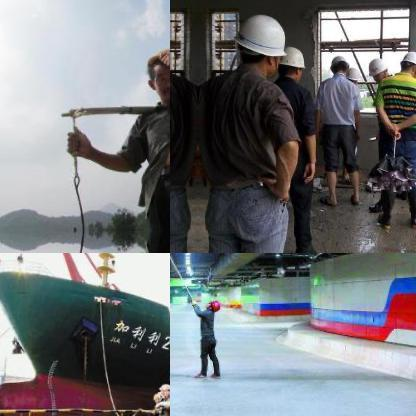Helmet: (230, 7, 288, 77), (276, 42, 310, 86), (142, 44, 169, 99), (398, 44, 415, 81), (367, 57, 389, 84), (328, 53, 348, 77), (344, 64, 360, 87), (204, 297, 222, 313)
